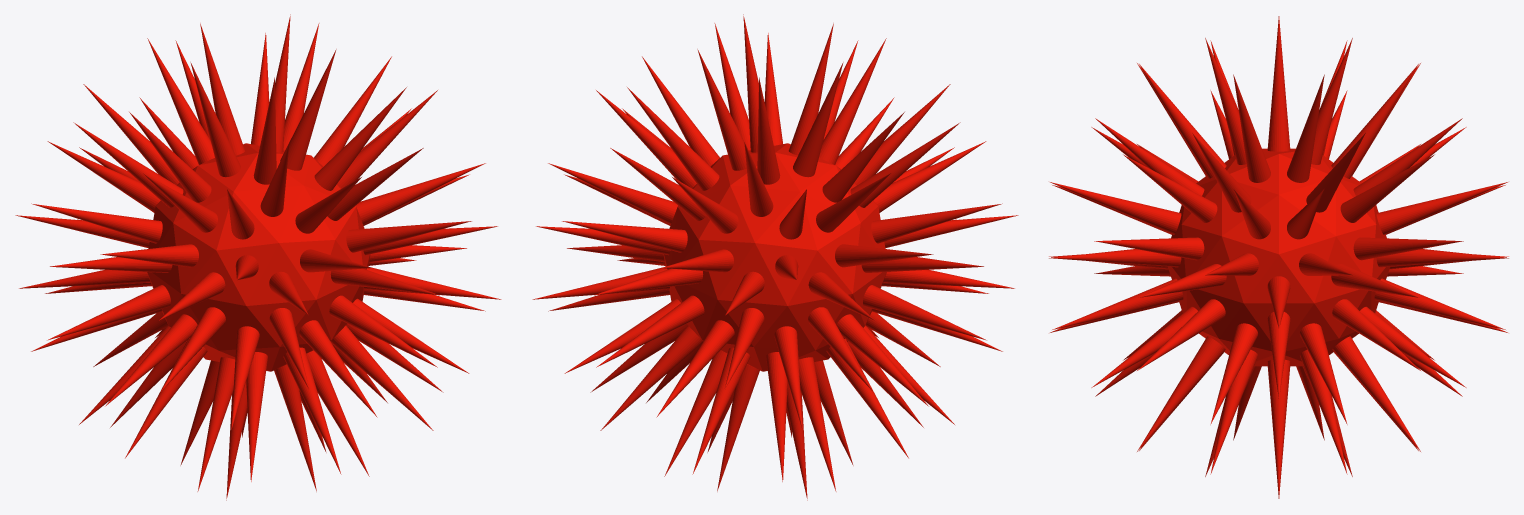
The model's file is Spike_5.fbx.
The picture shows the model from 3 angles, left to right: view 1: azimuth 30°, elevation 25°; view 2: azimuth 150°, elevation 25°; view 3: azimuth 270°, elevation 25°; orthographic projection.
Visible parts, largest first — view 1: Icosphere; view 2: Icosphere; view 3: Icosphere.
Boxes of the visible parts, x1,y1,x2,y2 form: Icosphere: (15, 14, 501, 500); Icosphere: (532, 14, 1018, 500); Icosphere: (1049, 16, 1508, 498).
Bounding box in the file's own units: 139 × 133 × 132.
